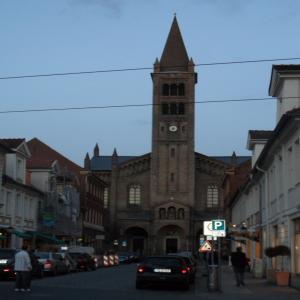Vehicle-registration-plate: (155, 270, 172, 274)
